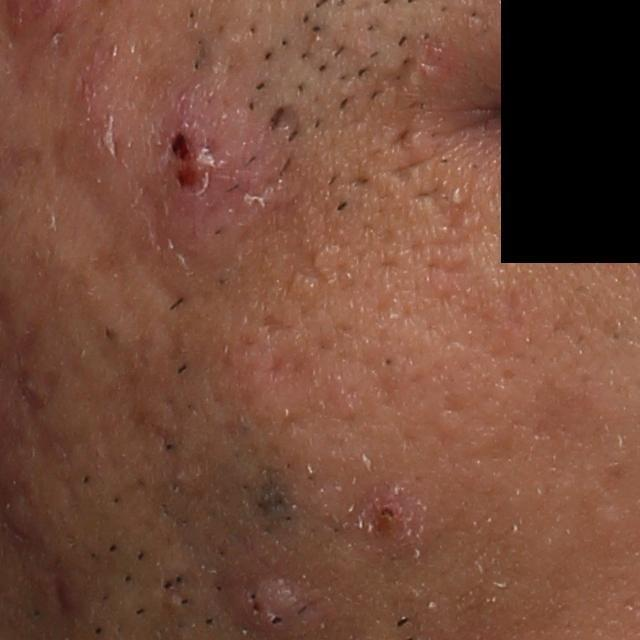atrophic_scar: (267, 100, 304, 144), (262, 310, 289, 338)
comedo: (380, 353, 397, 373)
nevus: (243, 465, 300, 542)
papule: (147, 81, 279, 239), (357, 476, 415, 543)
